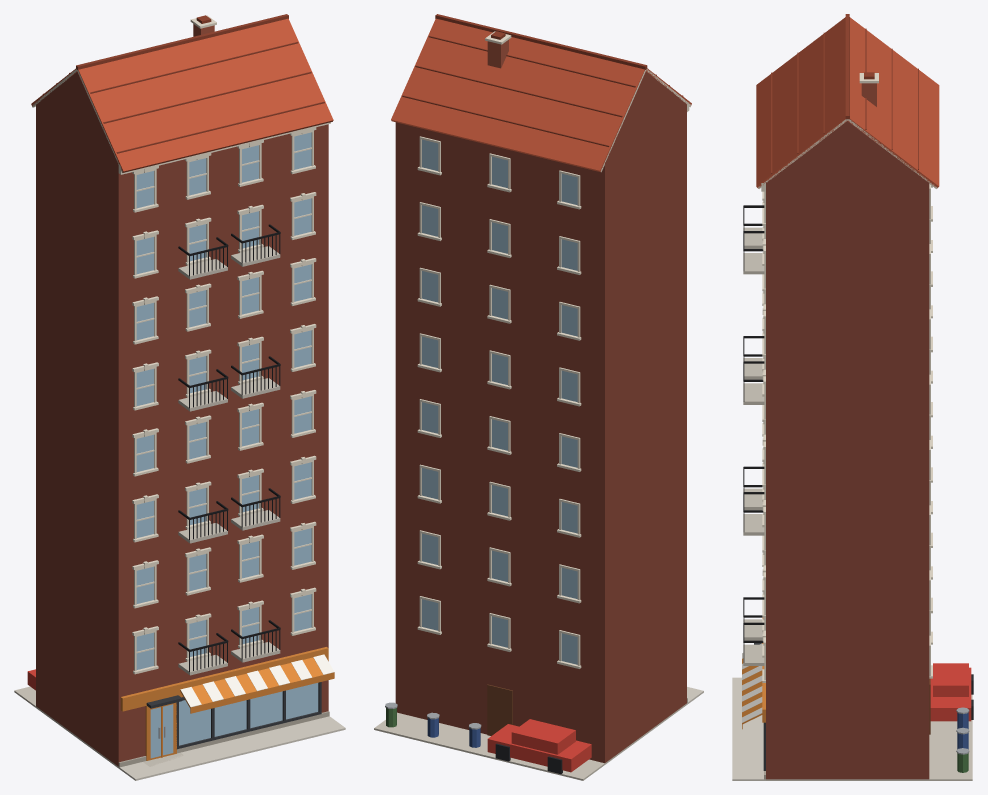
File: Blok_duz_9k_2_Hafif.fbx
3 views of the same model, side by side, from view 1: azimuth 30°, elevation 25°; view 2: azimuth 150°, elevation 25°; view 3: azimuth 270°, elevation 25° (orthographic).
Parts seen in each view (by area): view 1: Blok_duz_9k_2_Hafif; view 2: Blok_duz_9k_2_Hafif; view 3: Blok_duz_9k_2_Hafif.
Boxes of the visible parts, <box> form: Blok_duz_9k_2_Hafif: <box>14,14,345,780</box>; Blok_duz_9k_2_Hafif: <box>374,14,703,780</box>; Blok_duz_9k_2_Hafif: <box>732,14,973,780</box>.
Bounding box in the file's own units: 10.04 × 30.9 × 10.04.
